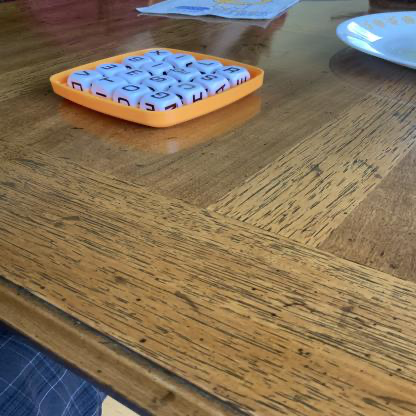b: (126, 57, 151, 64)
c: (173, 83, 202, 92)
e: (122, 70, 148, 78), (99, 64, 124, 72)
g: (146, 92, 177, 102)
i: (145, 62, 172, 71), (169, 55, 193, 62)
l: (195, 61, 221, 69)
o: (118, 85, 148, 95)
qu: (172, 68, 199, 77)
r: (220, 67, 247, 75)
s: (147, 76, 175, 85), (198, 75, 226, 83)
t: (96, 77, 125, 86)
v: (71, 71, 99, 78)
x: (148, 51, 172, 57)
